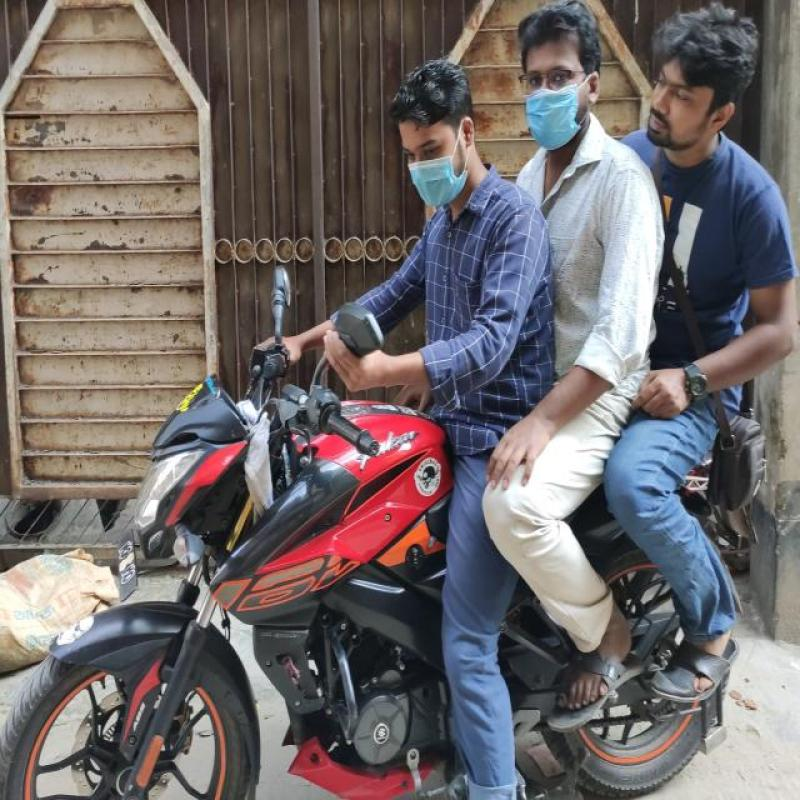nohelmet: (654, 7, 742, 164), (512, 8, 602, 154), (386, 70, 474, 212)
